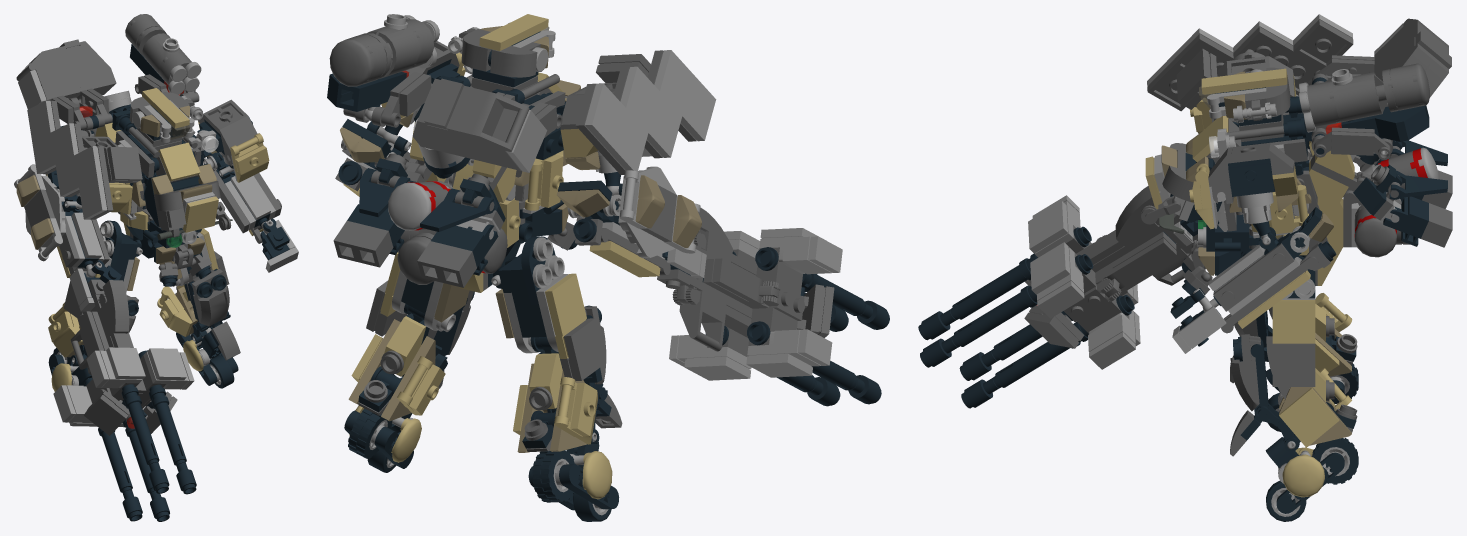
Rendered from ag-03d-baja.dae.
3 renders of one model, left to right at view 1: azimuth 30°, elevation 25°; view 2: azimuth 150°, elevation 25°; view 3: azimuth 270°, elevation 25°, orthographic. The views are drawn at different scales.
Size of the model in its own units: 372 by 500 by 453.
